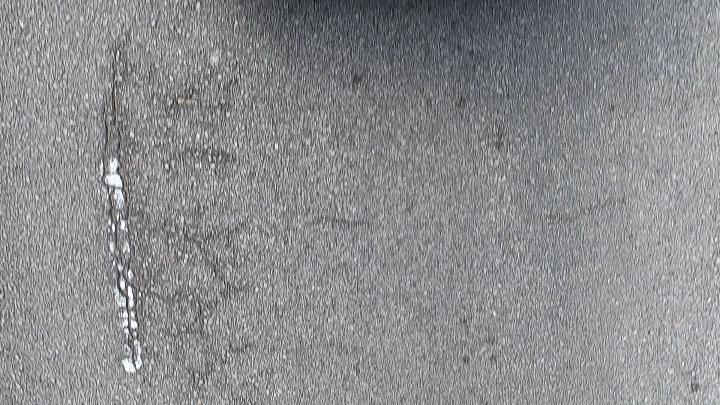Crack: (96, 31, 145, 371), (102, 35, 138, 368)
